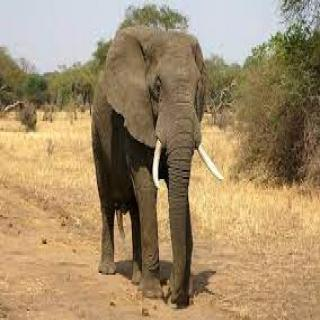Elephant: (88, 16, 233, 300)
